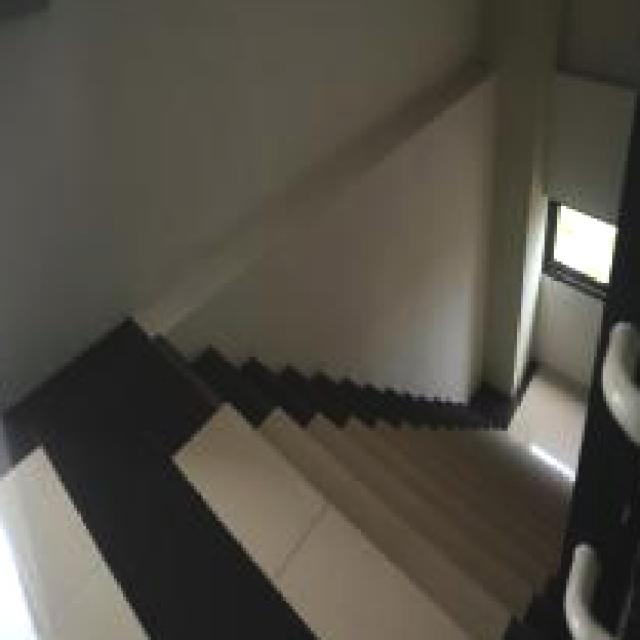downstair: (189, 358, 555, 640)
